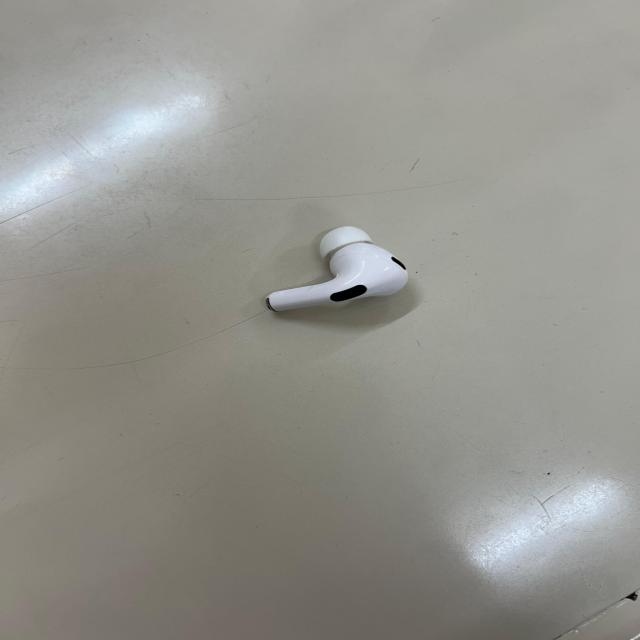inorganic: (259, 222, 417, 318)
